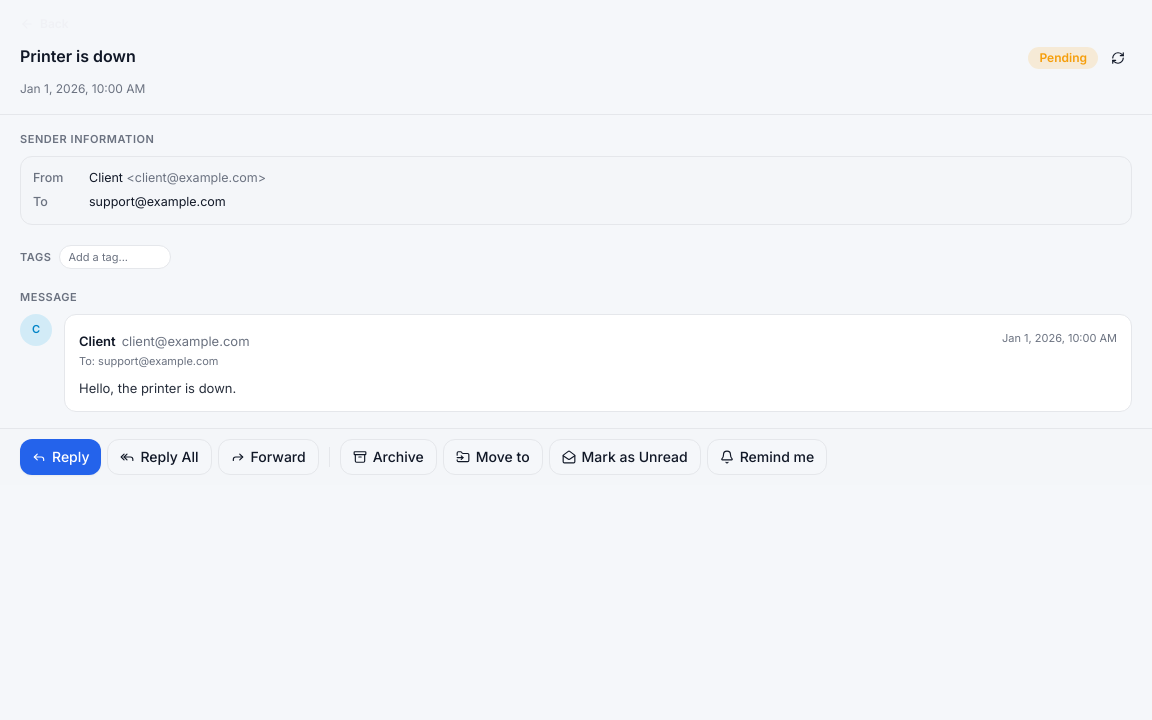
Test case: reading pane reminders › Remind me → Tomorrow → Set reminder creates it for THIS email
This screenshot has width=1152, height=720.
Click the button "Remind me" at x=767, y=457, box [707, 439, 827, 475]
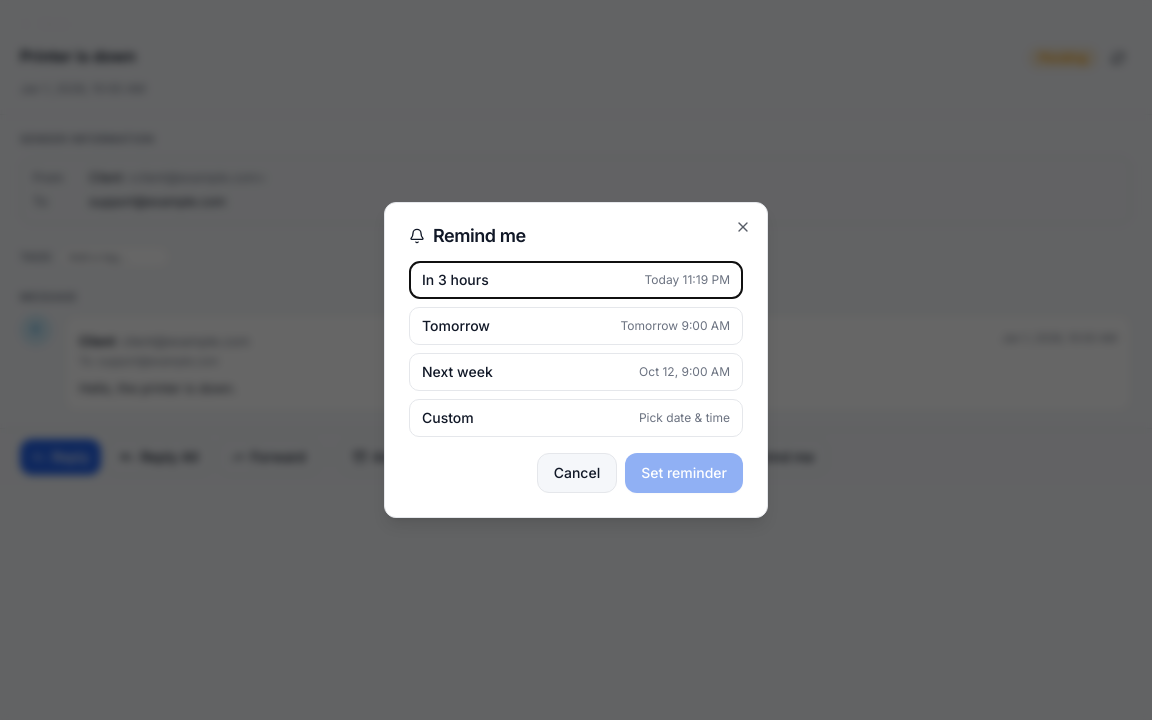
Click the button with test id "remind-preset-tomorrow" at x=456, y=326, box [409, 307, 743, 345]
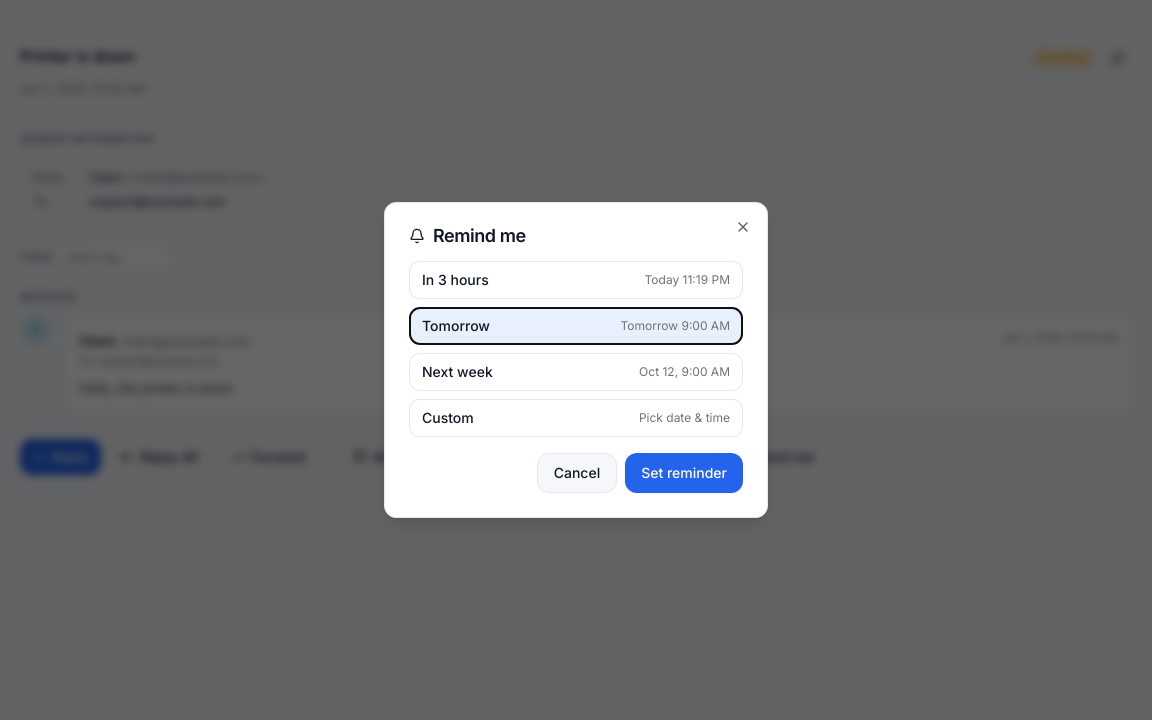
Click the button "Set reminder" at x=684, y=473, box [625, 453, 743, 493]
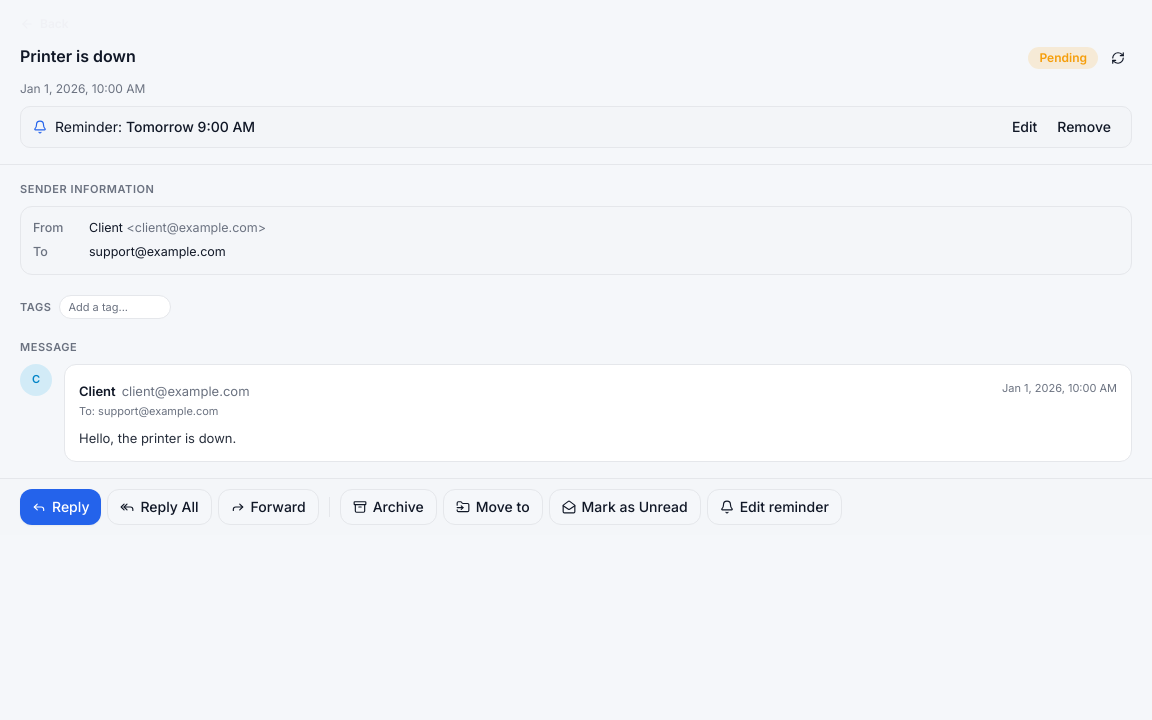
Check: the element with test id "reminder-chip" is shown, box [20, 106, 1132, 148]
Check: the button "Edit reminder" is shown, box [707, 489, 842, 525]
